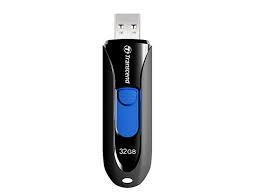Flash-drive: (89, 12, 177, 189)
